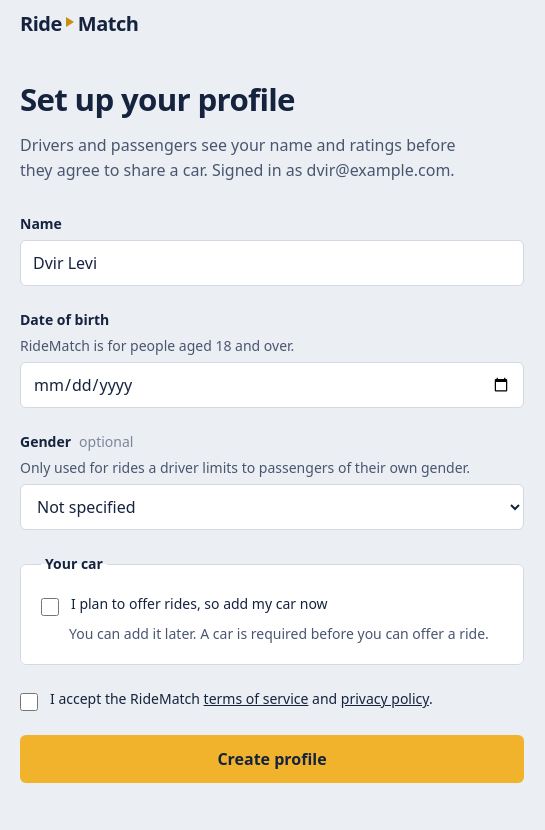
Scenario: onboarding › requires the terms before it will submit
In the date field labelled "Date of birth": (272, 385) [20,362,524,408], type "1996-02-11"
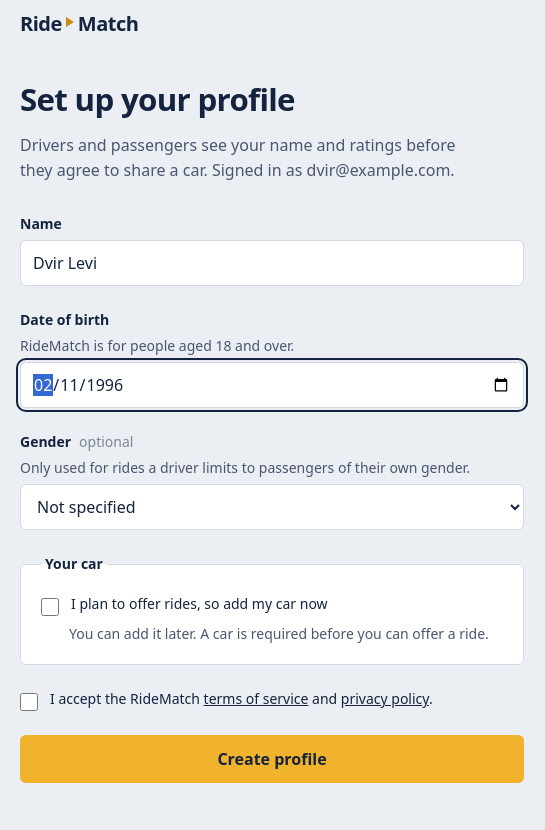
Click the button "Create profile": click(272, 759) [20,735,524,783]
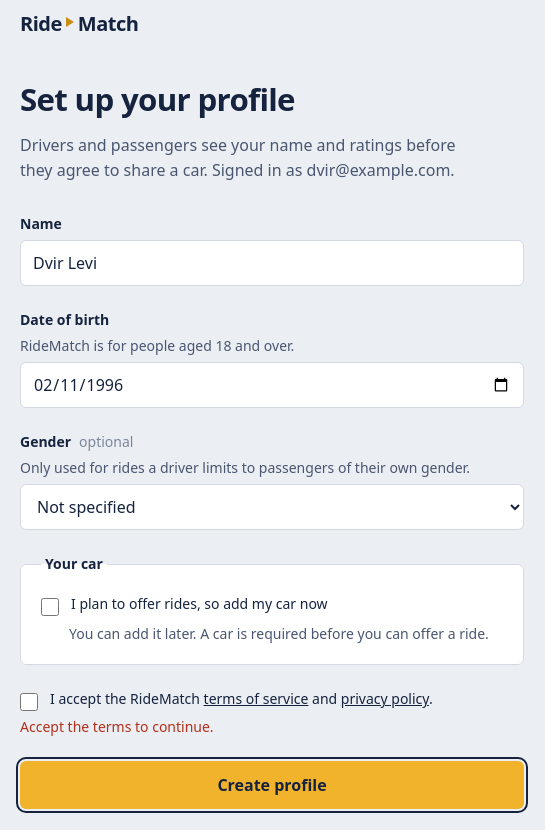
Expected: the text "Accept the terms to continue." is shown, [20,717,214,736]
